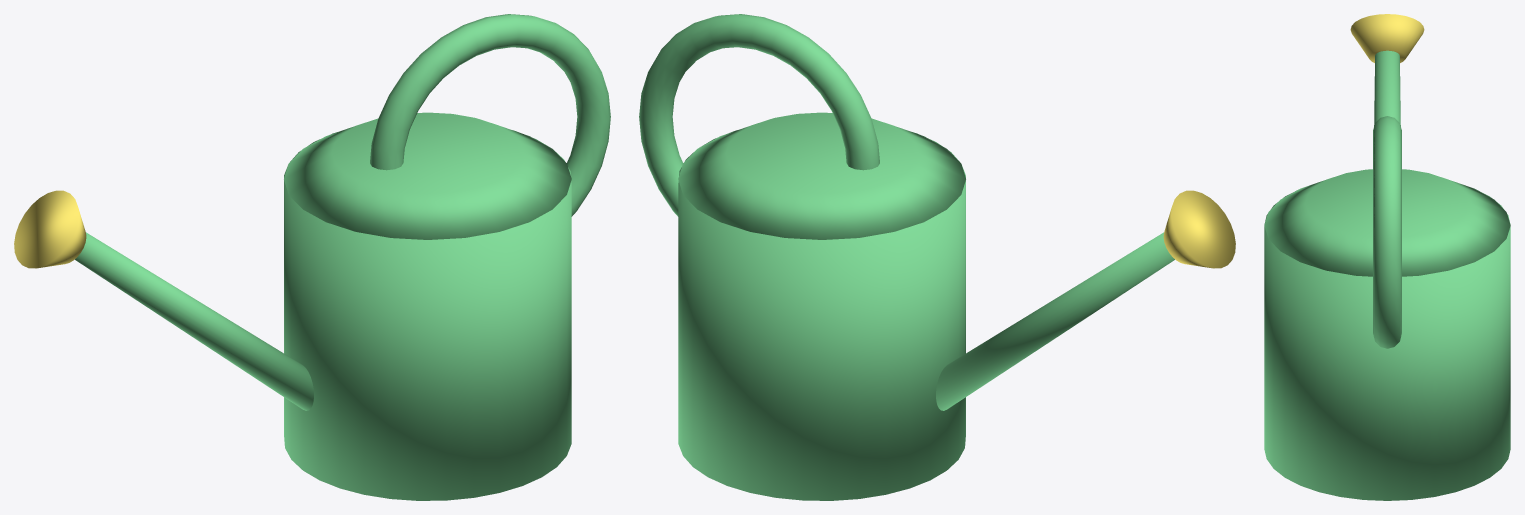
The model's file is watering_can.glb.
3 views of the same model, side by side, from view 1: azimuth 30°, elevation 25°; view 2: azimuth 150°, elevation 25°; view 3: azimuth 270°, elevation 25° (orthographic). The views are drawn at different scales.
Visible parts, largest first — view 1: wc_body, wc_top, wc_handle, wc_spout, wc_rose; view 2: wc_body, wc_top, wc_handle, wc_spout, wc_rose; view 3: wc_body, wc_top, wc_handle, wc_rose, wc_spout.
Part boxes in pixels (x1,y1,x2,y2): wc_body: [284, 130, 571, 500]; wc_top: [284, 112, 571, 239]; wc_handle: [370, 14, 610, 216]; wc_spout: [75, 232, 313, 410]; wc_rose: [14, 190, 86, 268]; wc_body: [678, 130, 965, 500]; wc_top: [678, 112, 965, 239]; wc_handle: [639, 14, 879, 216]; wc_spout: [936, 232, 1174, 410]; wc_rose: [1163, 190, 1235, 268]; wc_body: [1264, 190, 1510, 500]; wc_top: [1264, 169, 1510, 276]; wc_handle: [1373, 116, 1401, 348]; wc_rose: [1350, 14, 1424, 62]; wc_spout: [1374, 50, 1400, 125].
Size of the model in its own units: 0.2821 by 0.187 by 0.12.
